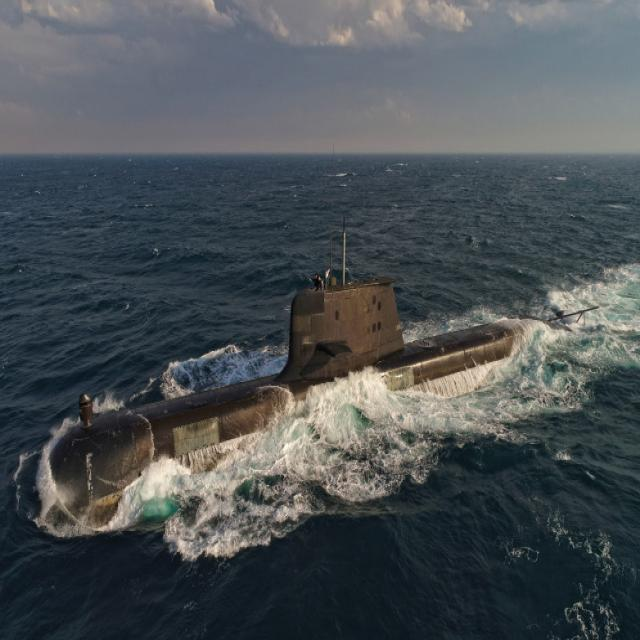submarine: (41, 270, 603, 537)
